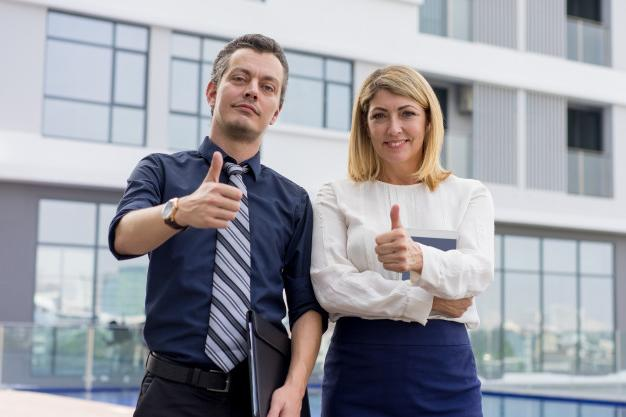thumbsup: (200, 151, 243, 228), (374, 204, 411, 272)
